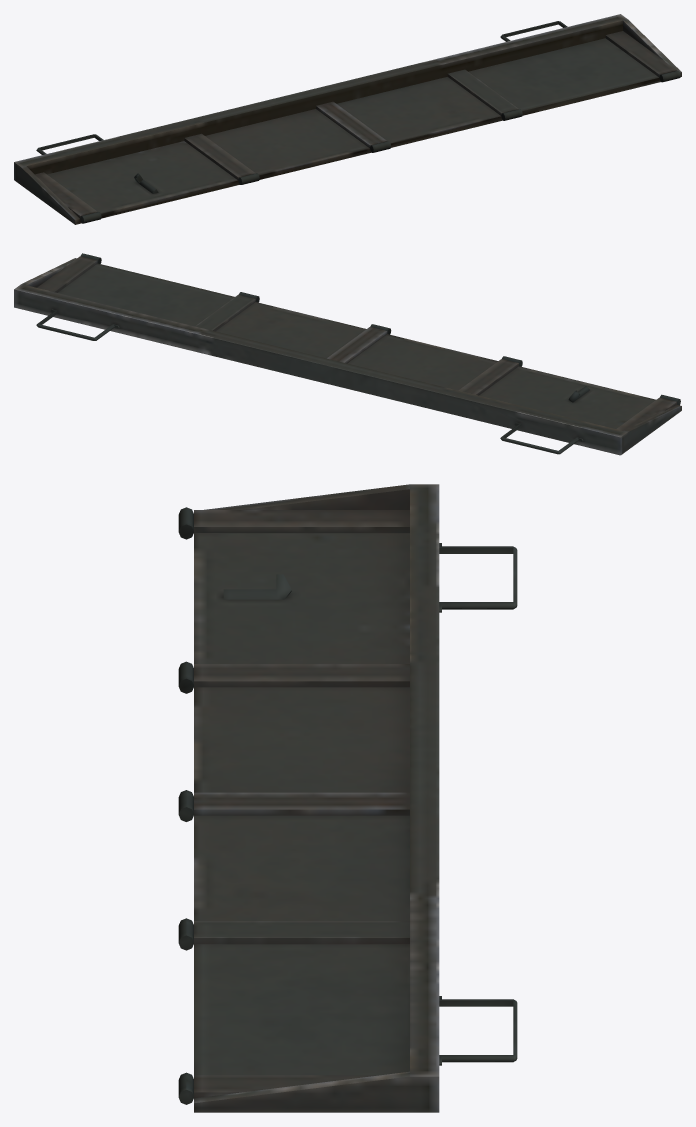
The model's file is C70SurvivorTrunkLid_WorldItem.fbx.
The picture shows the model from 3 angles, top to bottom: view 1: azimuth 30°, elevation 25°; view 2: azimuth 150°, elevation 25°; view 3: azimuth 270°, elevation 25°; orthographic projection. The views are drawn at different scales.
Visible parts, largest first — view 1: TrunkDoor_obj; view 2: TrunkDoor_obj; view 3: TrunkDoor_obj.
Part boxes in pixels (left/top/right/bottom): TrunkDoor_obj: left=14, top=14, right=681, bottom=224; TrunkDoor_obj: left=14, top=253, right=681, bottom=455; TrunkDoor_obj: left=178, top=484, right=517, bottom=1112.
Bounding box in the file's own units: 3.37 × 0.0959 × 0.8154.
